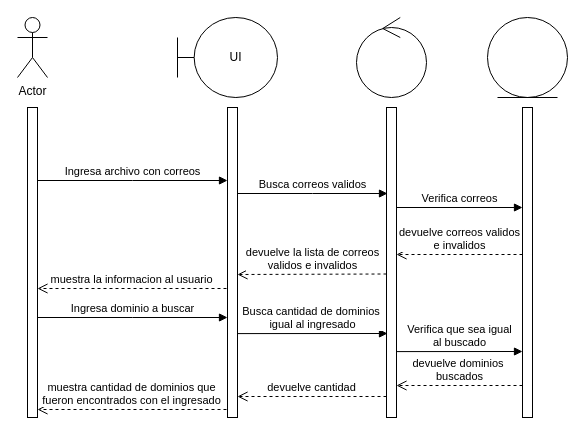
Some shapes in this 585 by 438 pixel diagram are drawn without their labels. The shapes that lost their labels are listed below. From the top down, each one's centre as x and y in pixels, then its label:
At (x=391, y=57): "Gestor correo".
At (x=527, y=57): "Correo".
